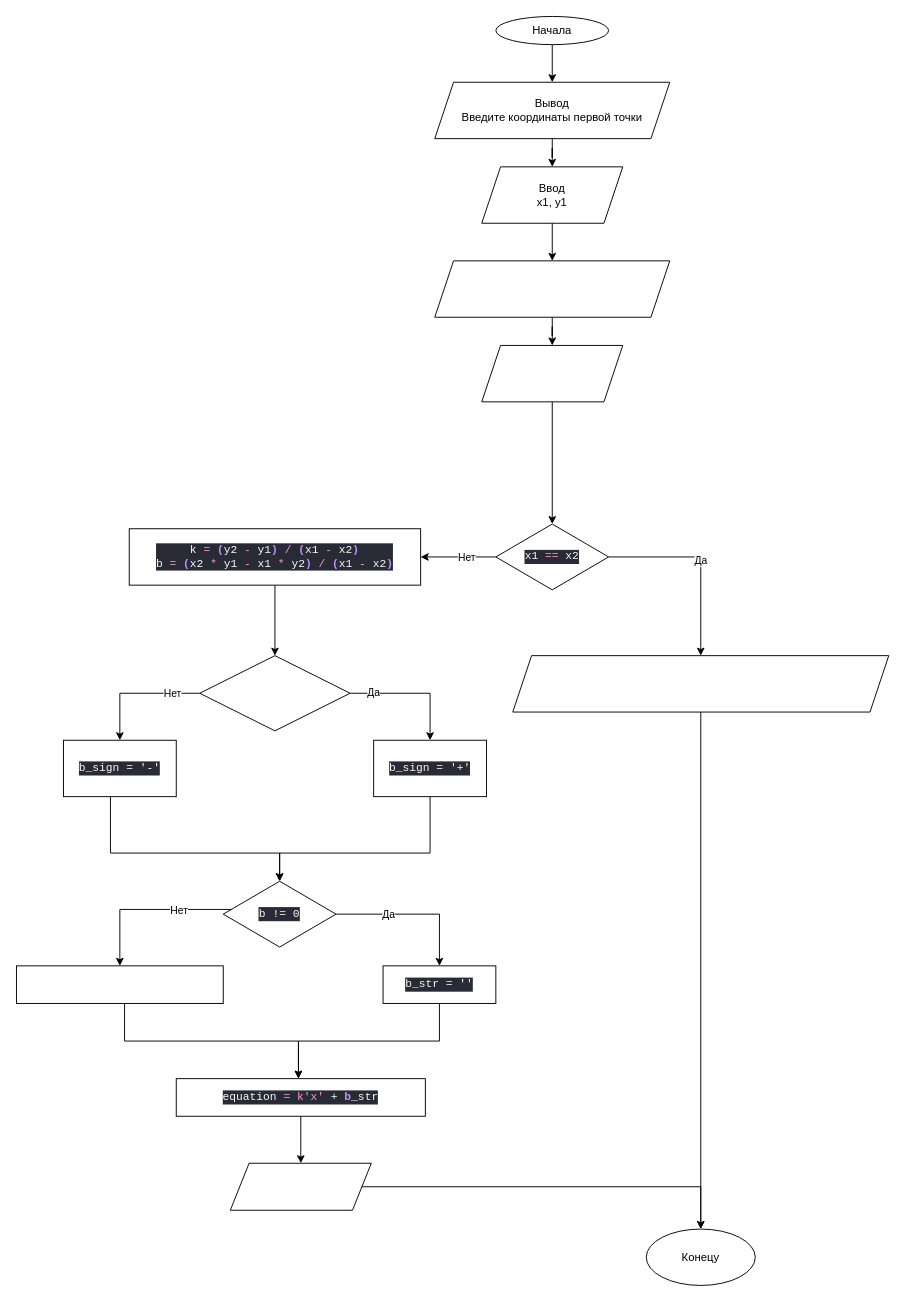
Image size: 905x1302. Some labels were removed from this diagram. The shapes that lost their labels are listed below. From the top down, each one's centre as x and y in pixels, then its label:
At (x=552, y=288): "Вывод Введите координаты второй точки".
At (x=552, y=373): "Ввод x2, y2".
At (x=274, y=693): "b > 0".
At (x=700, y=683): "Вывод Прямая не может быть проведена через данные точки".
At (x=119, y=984): "b_str = b_sign + |b_coef|".
At (x=300, y=1186): "Вывод equation".
